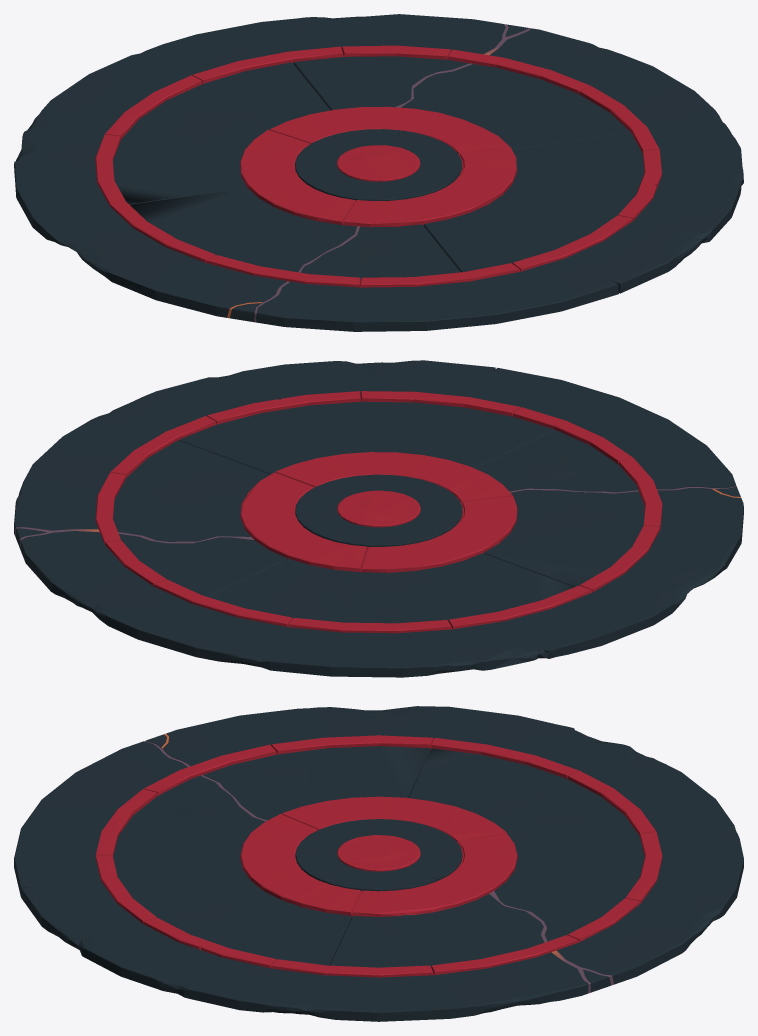
Rendered from Arena_red_grey.fbx.
The picture shows the model from 3 angles, top to bottom: view 1: azimuth 30°, elevation 25°; view 2: azimuth 150°, elevation 25°; view 3: azimuth 270°, elevation 25°; orthographic projection.
Parts seen in each view (by area): view 1: Arena_01.001; view 2: Arena_01.001; view 3: Arena_01.001.
Part boxes in pixels (bbox=[...]): Arena_01.001: bbox=[14, 14, 743, 331]; Arena_01.001: bbox=[14, 360, 743, 677]; Arena_01.001: bbox=[14, 706, 743, 1021].
Bounding box in the file's own units: 2113 × 51.58 × 2124.
